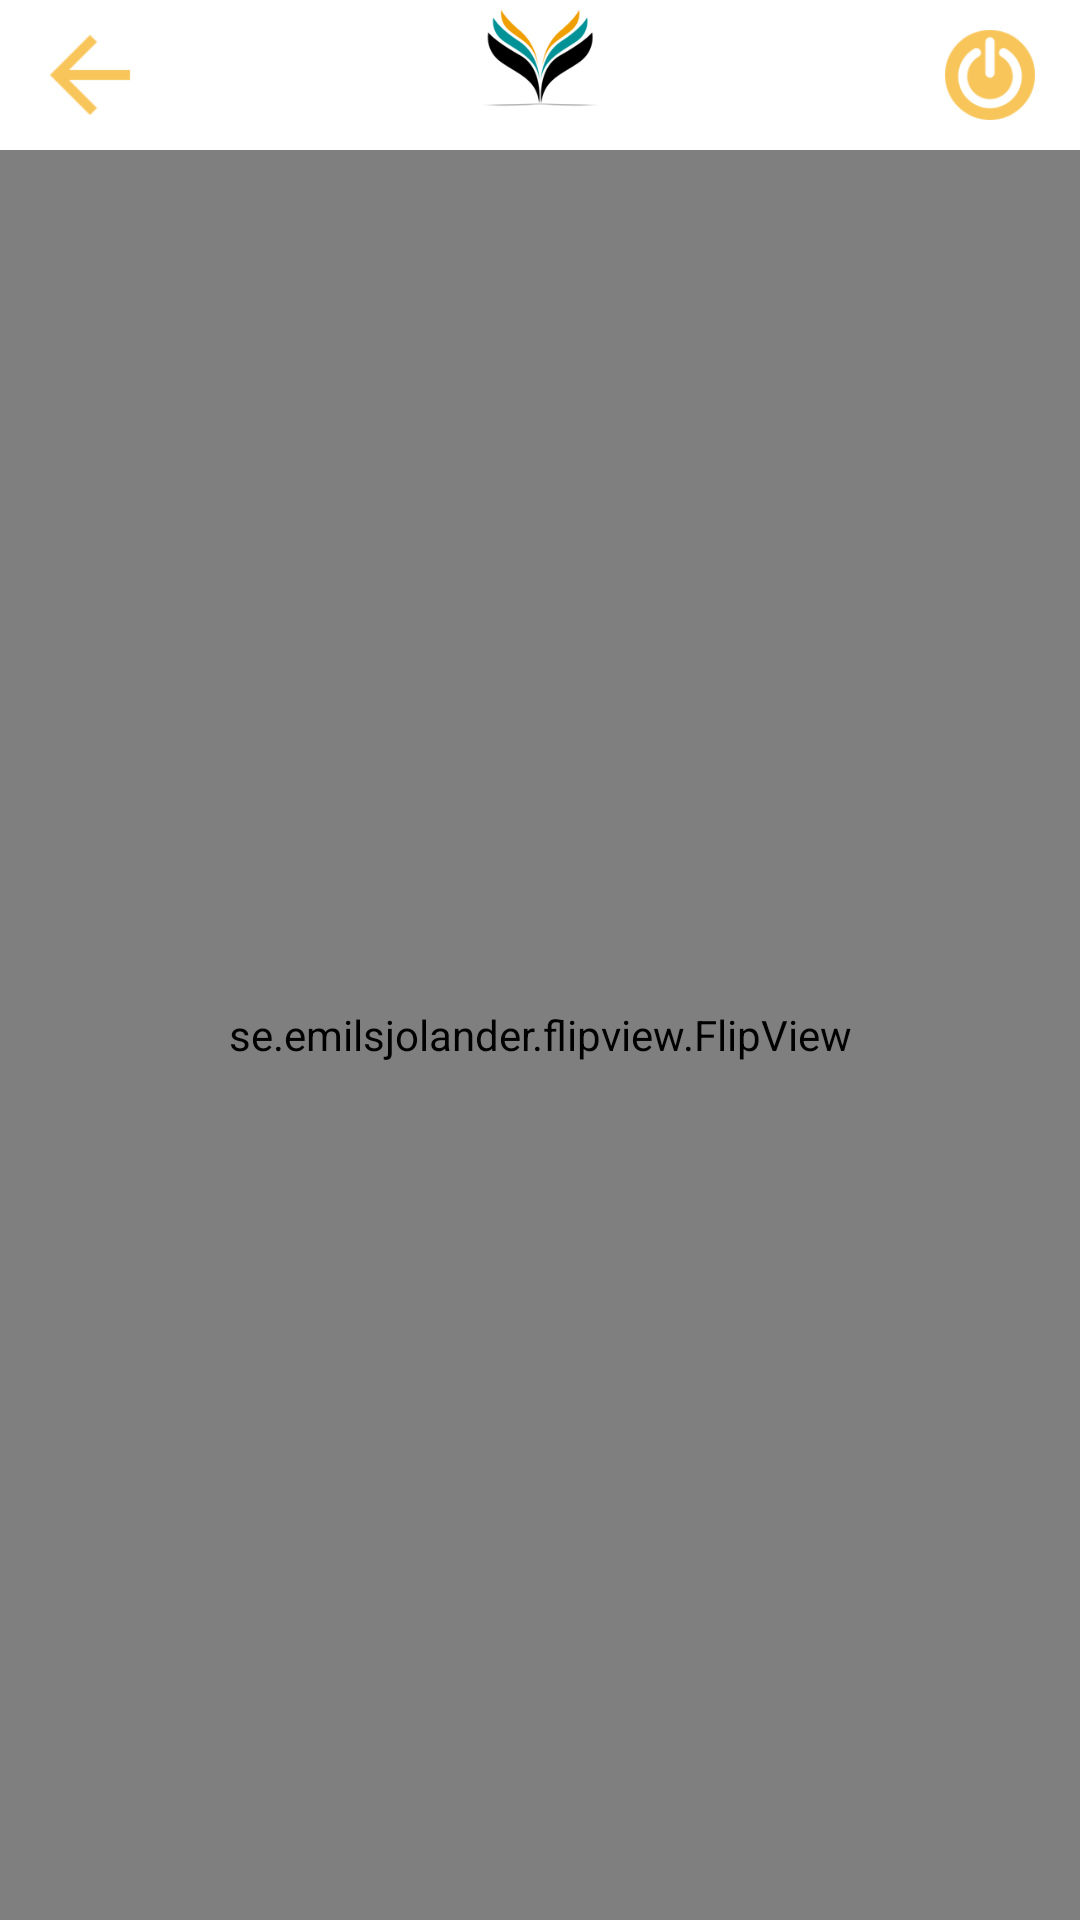

Where icons sit on this 1080px×1920px app screen, as bbox=[x1, y1, x2, y2]:
lgo: bbox=[487, 10, 593, 106]
